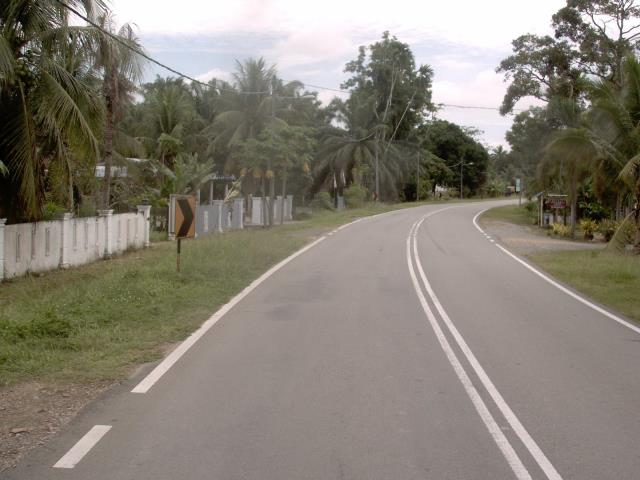traffic_sign: (162, 186, 204, 248)
